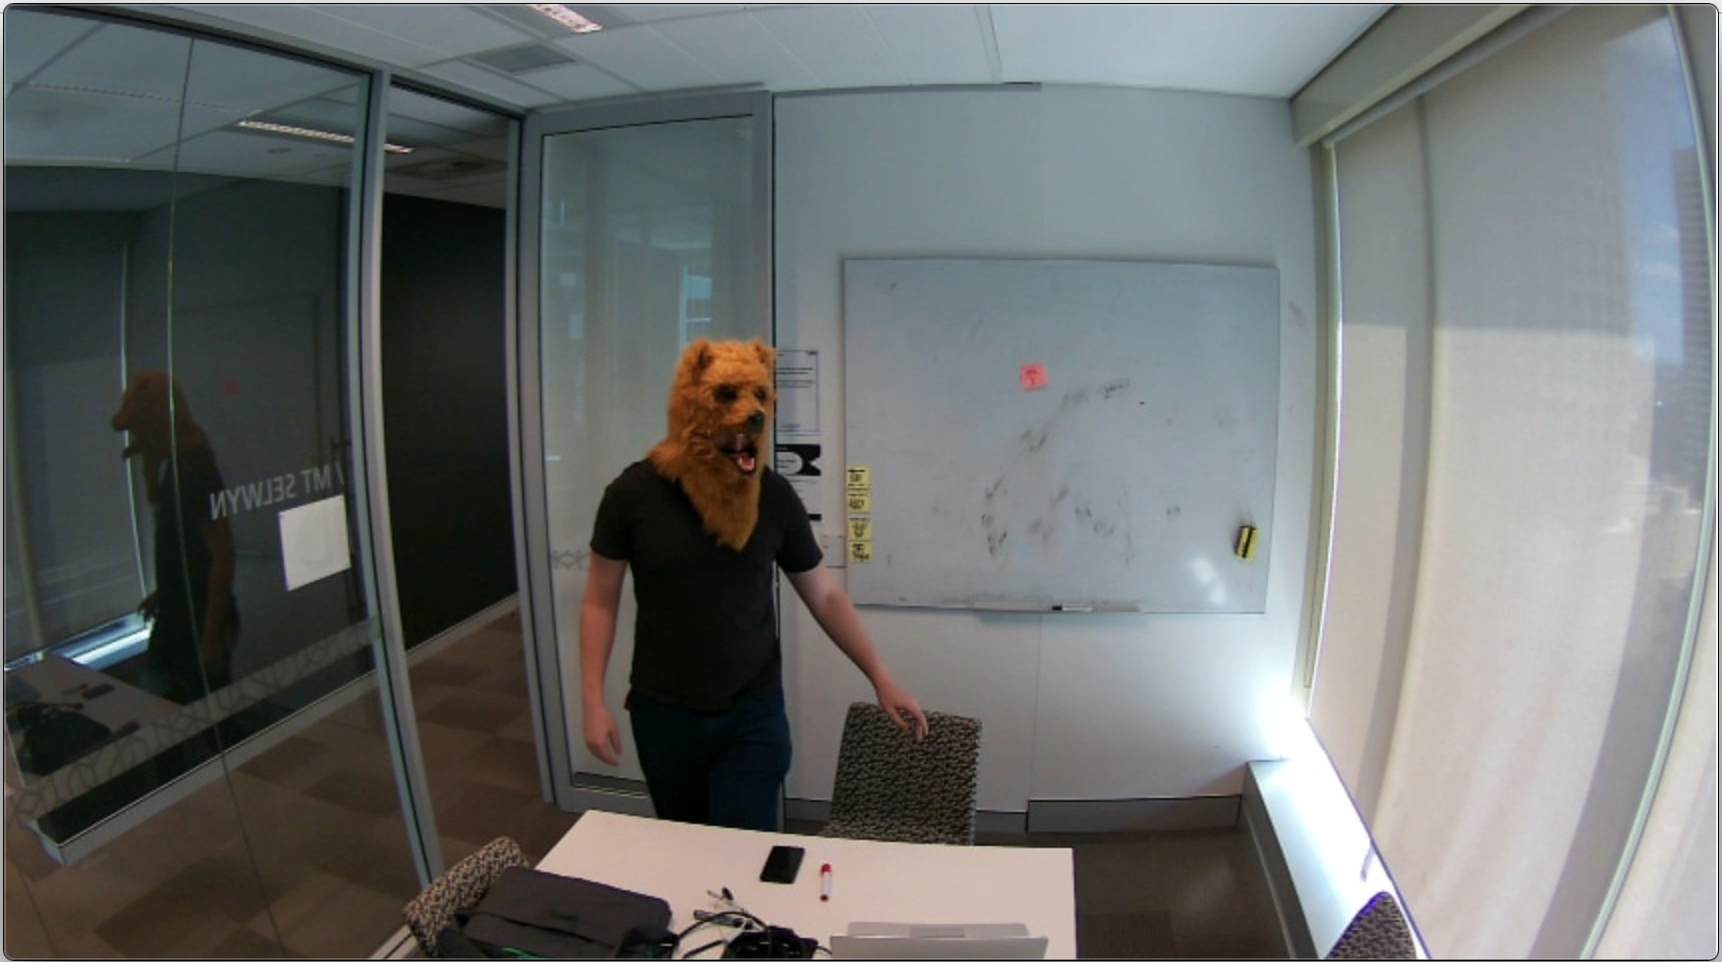Bear: (663, 336, 779, 491)
